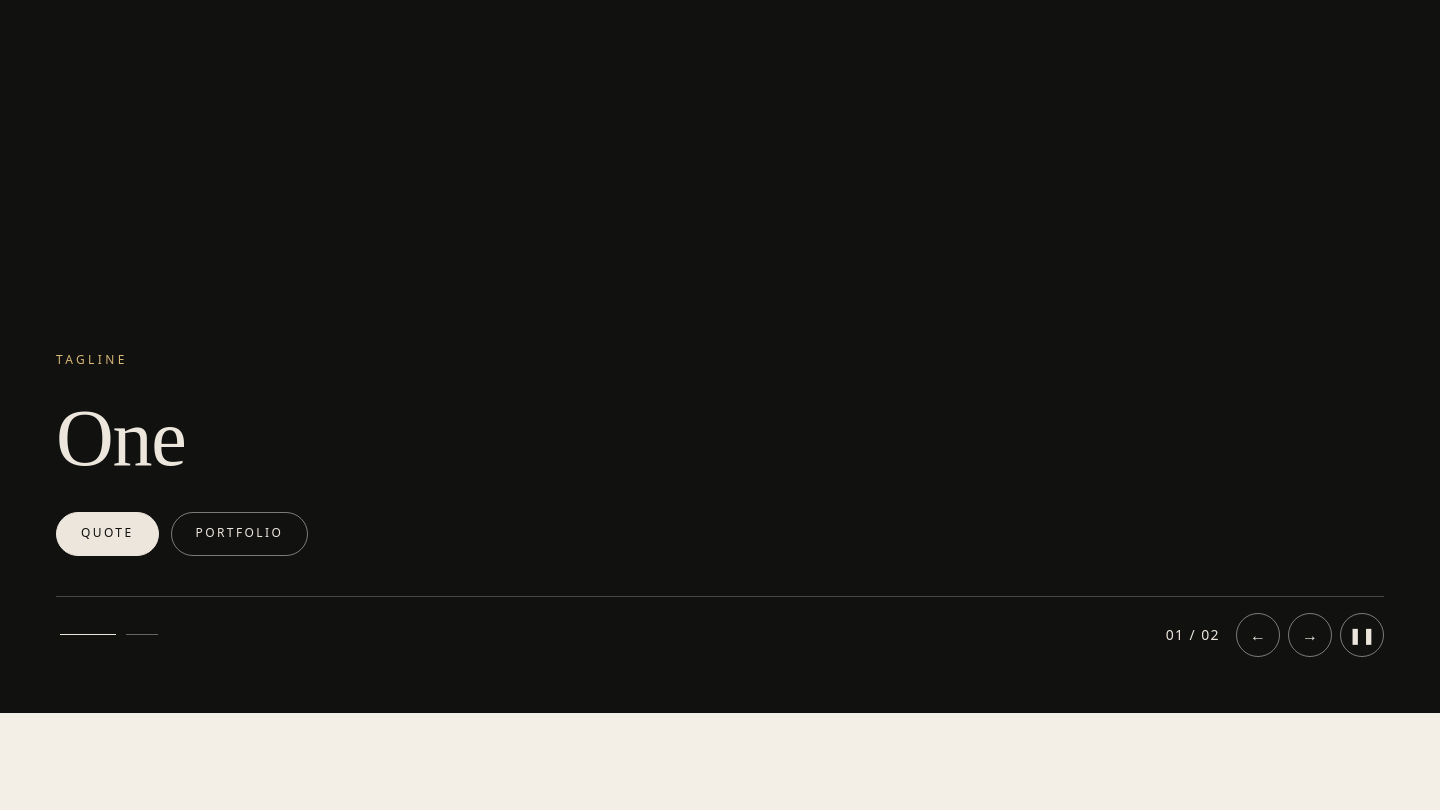
Scenario: HeroSlides › steps with the arrows and wraps around
Step 1. Click the button named "Next slide" → (1310, 635), box [1288,613,1332,657]
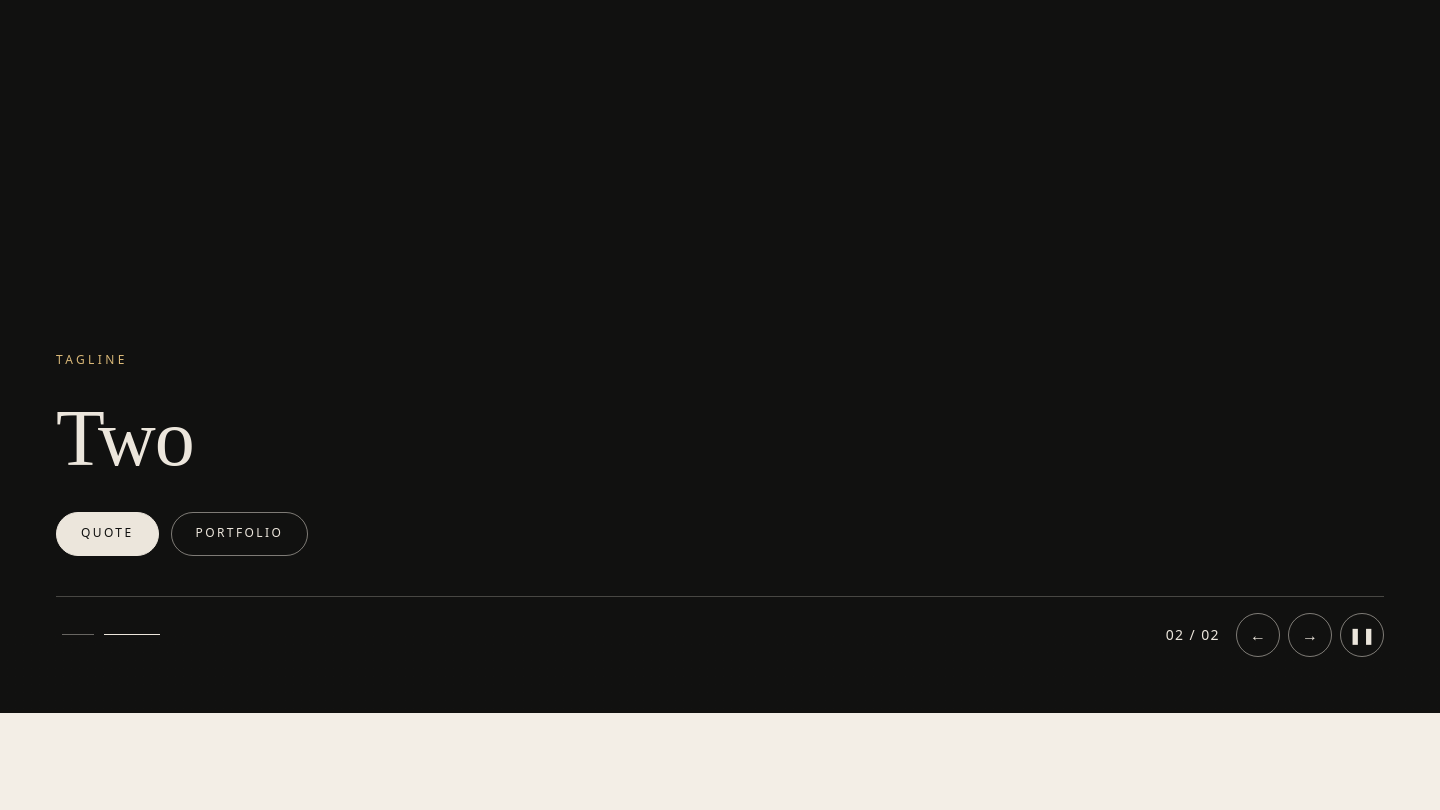
Expected: the heading "Two" is shown, [56,394,194,482]
Step 2. Click the button named "Next slide" → (1310, 635), box [1288,613,1332,657]
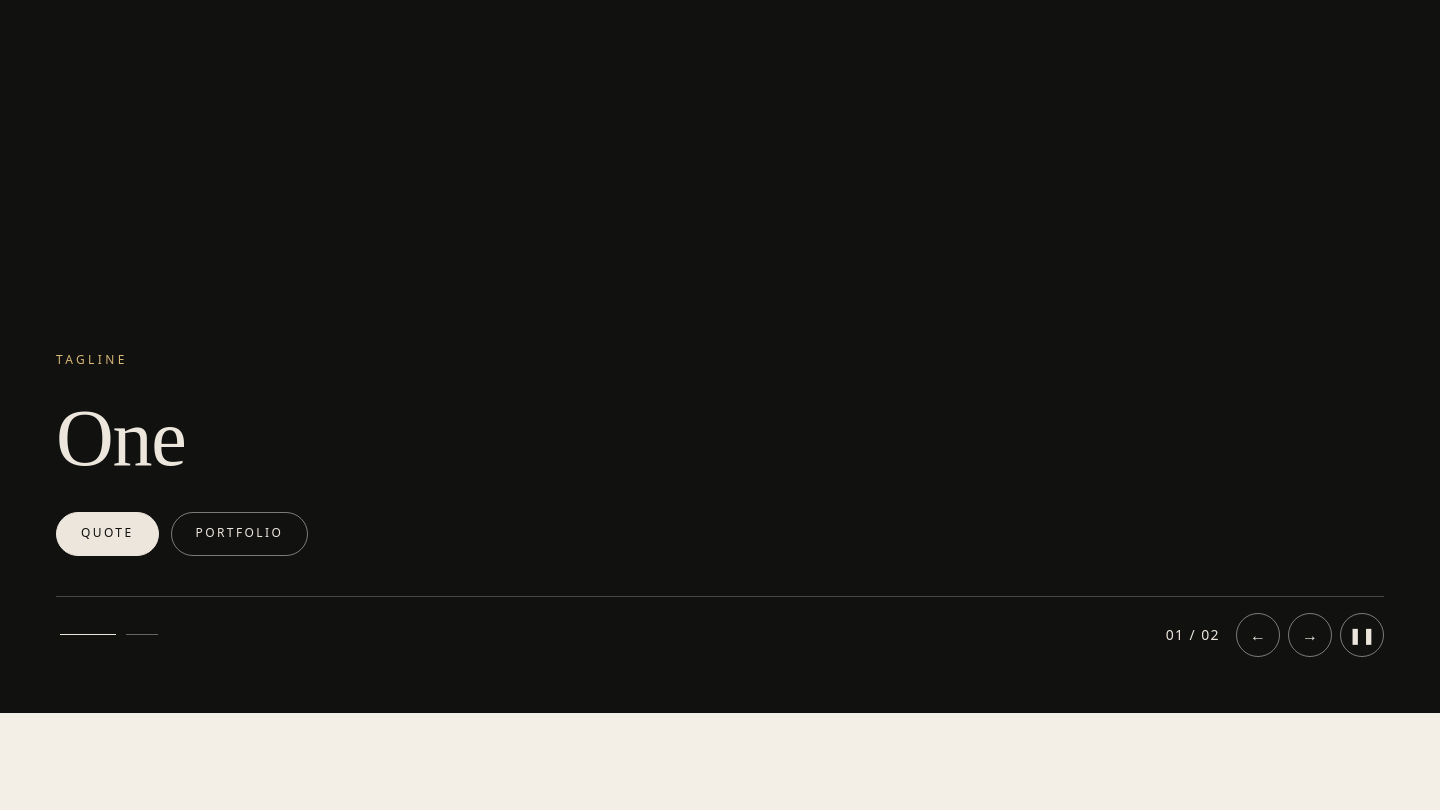
Expected: the heading "One" is shown, [56,394,186,482]
Step 3. Click the button named "Previous slide" → (1258, 635), box [1236,613,1280,657]
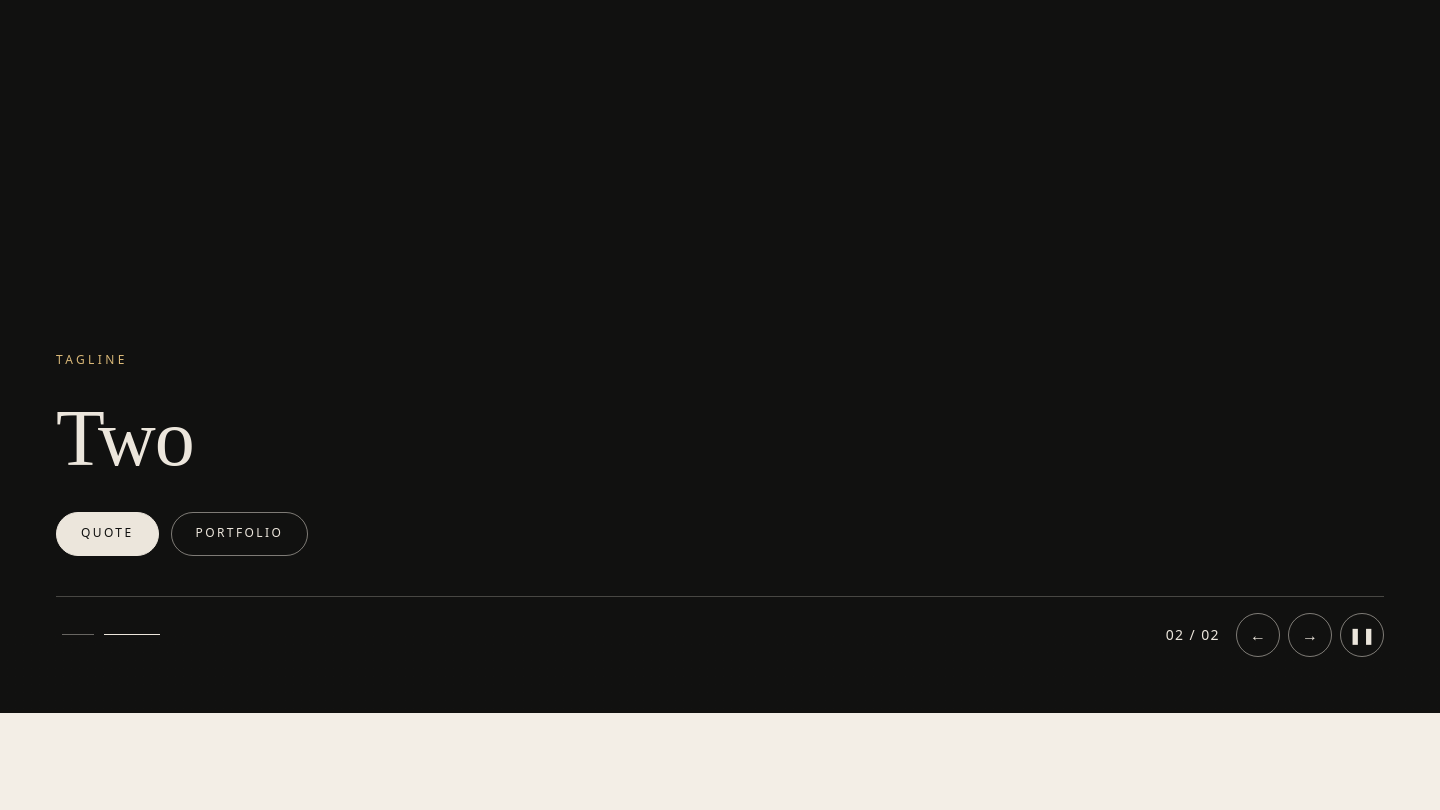
Expected: the heading "Two" is shown, [56,394,194,482]
